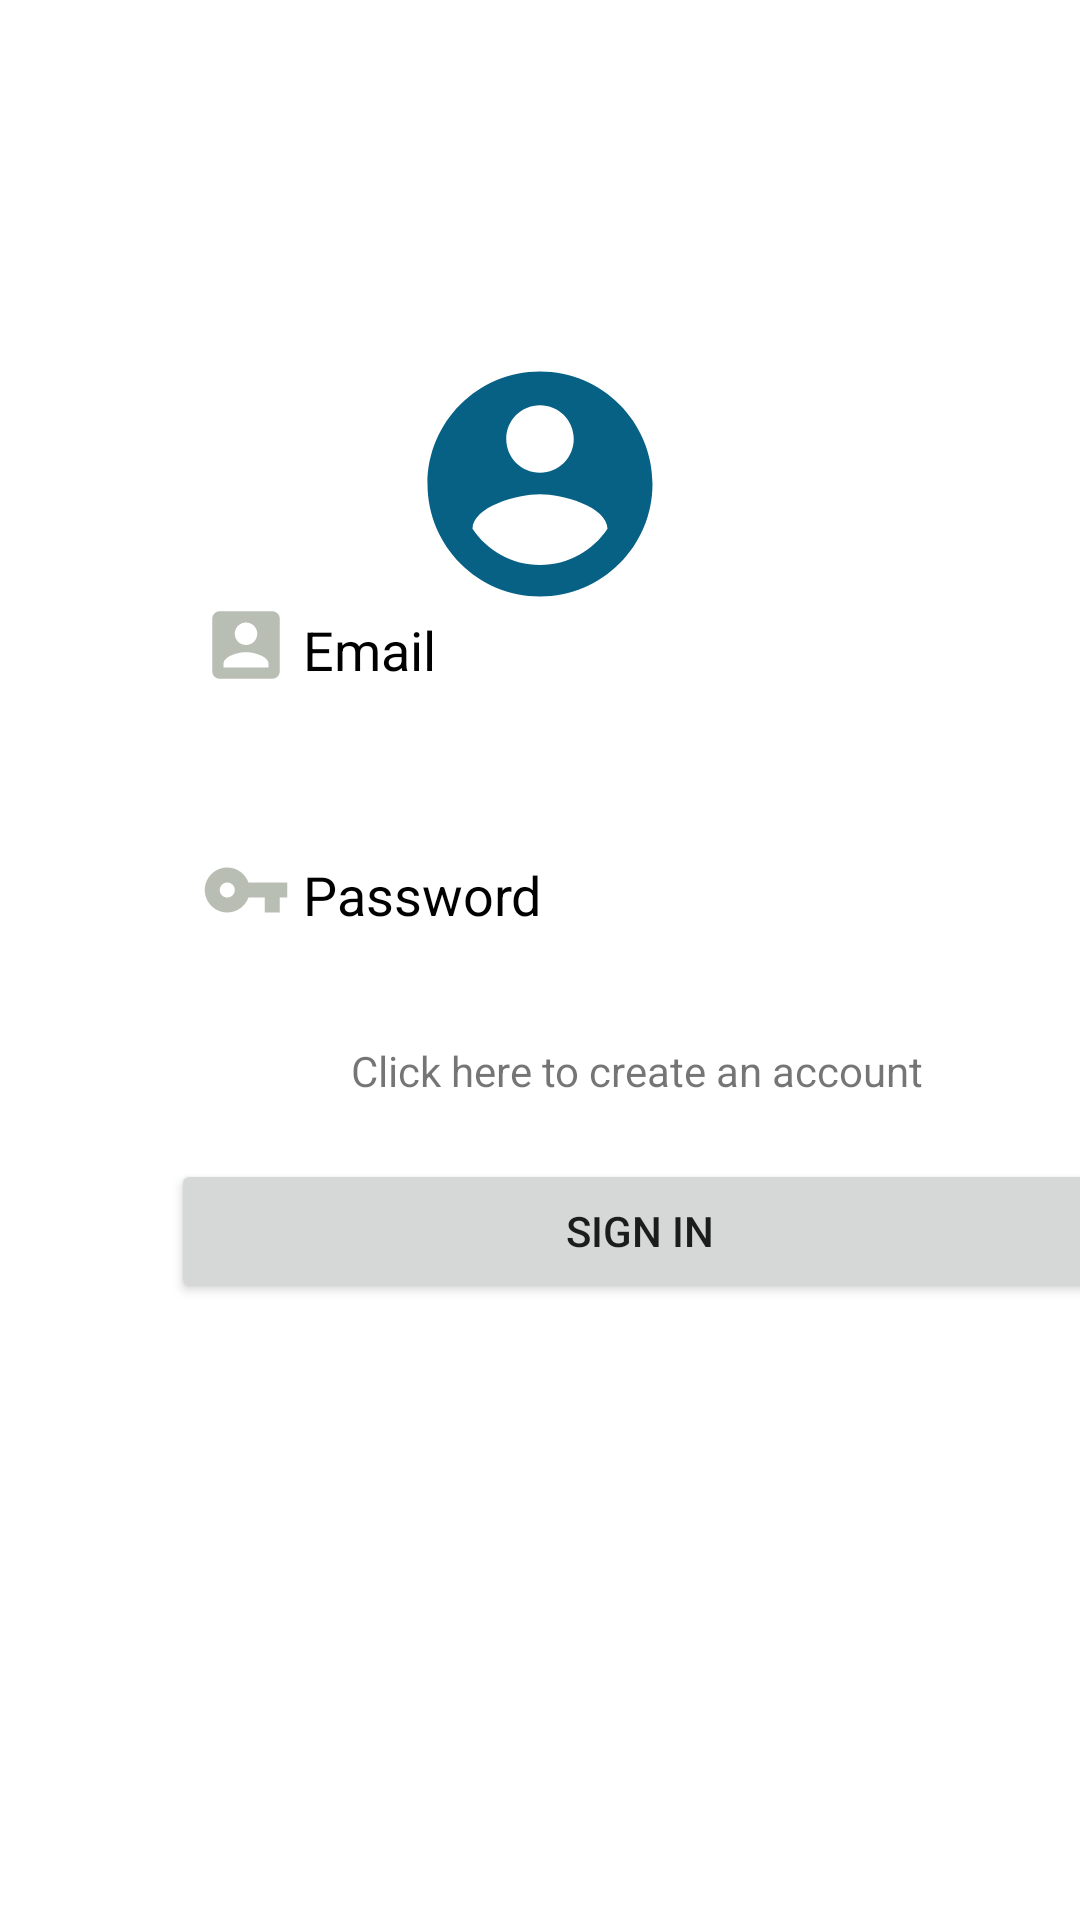

Where icons sit on this 1080×1920 app screen, as detection(x1, y1, x2, y2):
user: detection(427, 371, 653, 597), detection(212, 611, 280, 679)
